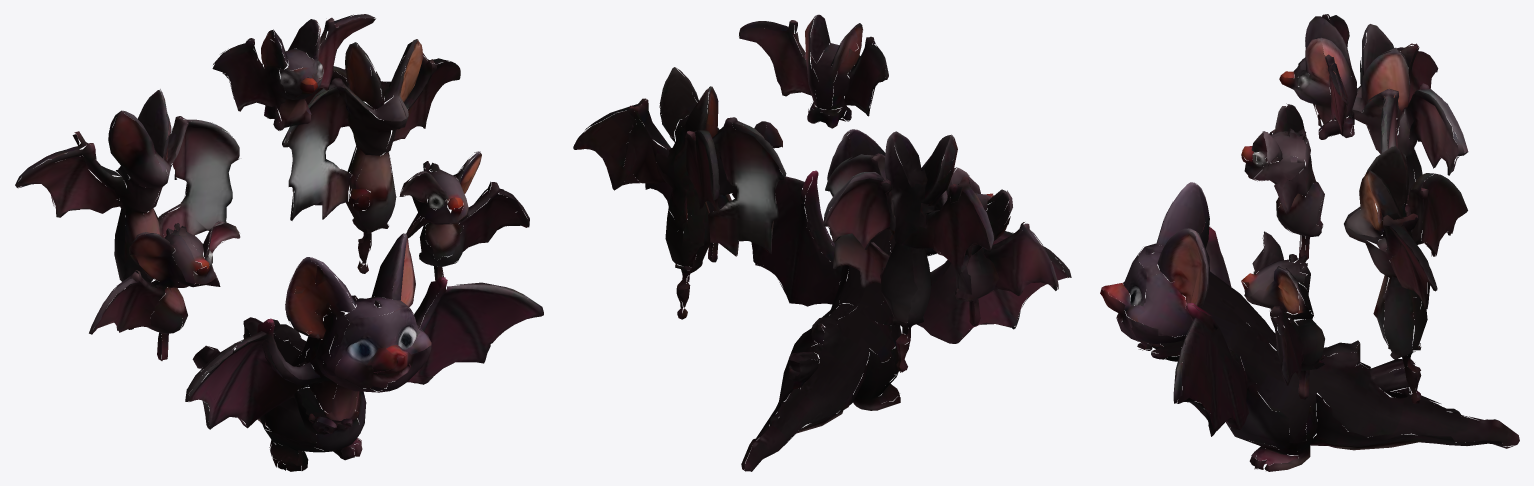
File: bat_swarm.glb
The picture shows the model from 3 angles, left to right: view 1: azimuth 30°, elevation 25°; view 2: azimuth 150°, elevation 25°; view 3: azimuth 270°, elevation 25°; orthographic projection. The views are drawn at different scales.
Visible parts, largest first — view 1: geometry_0; view 2: geometry_0; view 3: geometry_0.
Part boxes in pixels (x1,y1,x2,y2): geometry_0: (15,14,543,471); geometry_0: (573,14,1071,471); geometry_0: (1100,14,1519,471).
Bounding box in the file's own units: 1 × 0.9051 × 0.8036.
1 material, 1 textured.
